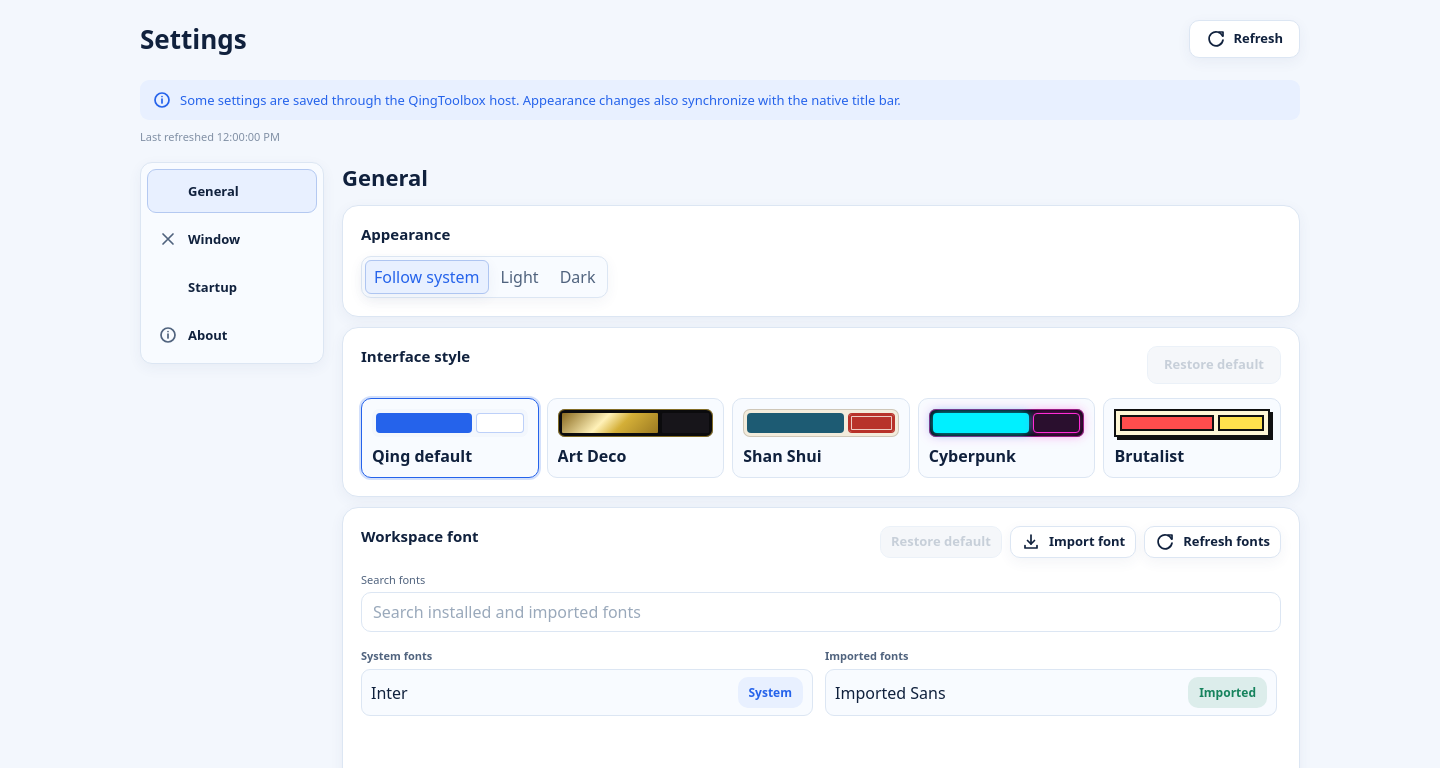
Test case: SettingsPage information architecture › does not optimistically change failed update-check settings and disables them when disconnected
The width and height of the screenshot is (1440, 768).
Click the button "Startup" at {"x": 232, "y": 287}, box [147,265,317,309]
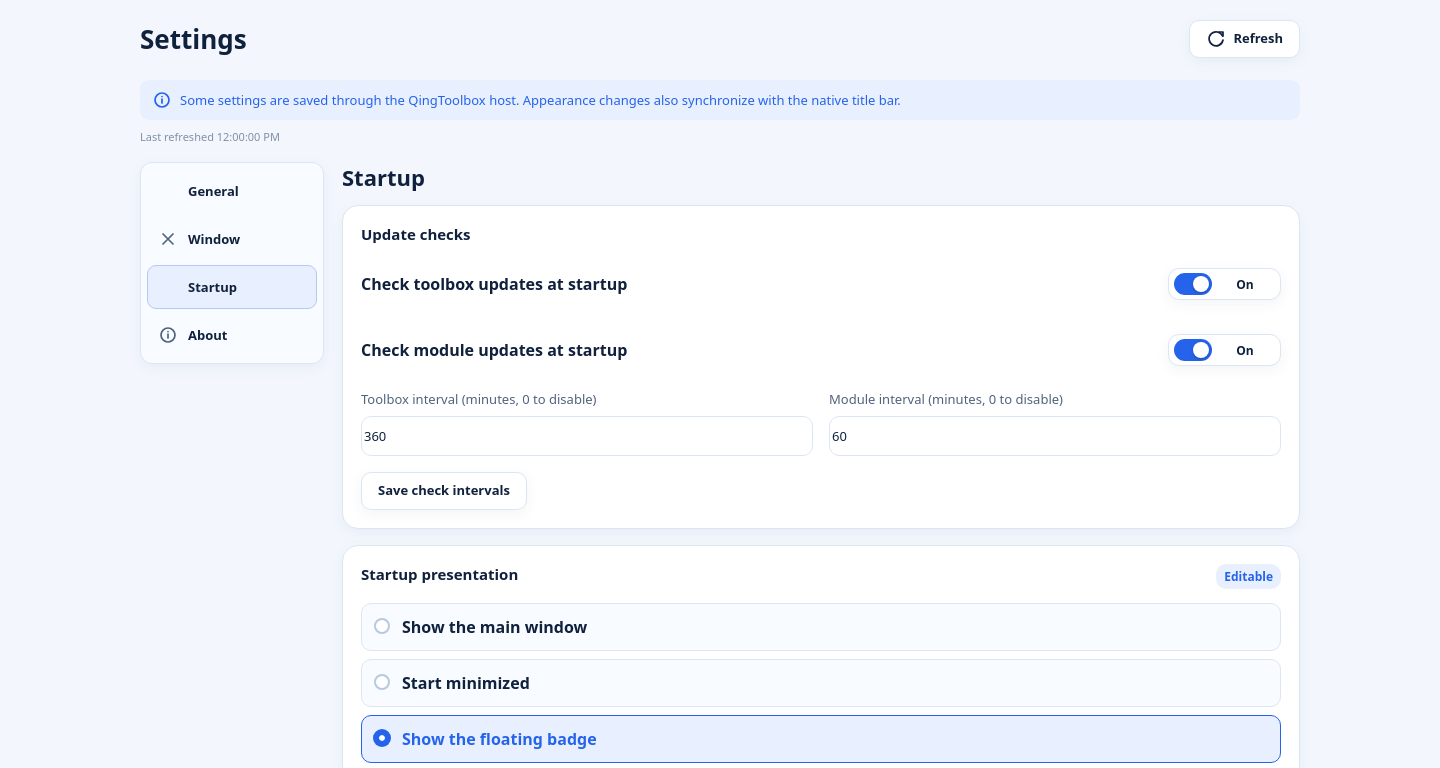
Click the switch with class "check-module-updates" at {"x": 1224, "y": 350}, box [1168,334,1281,366]
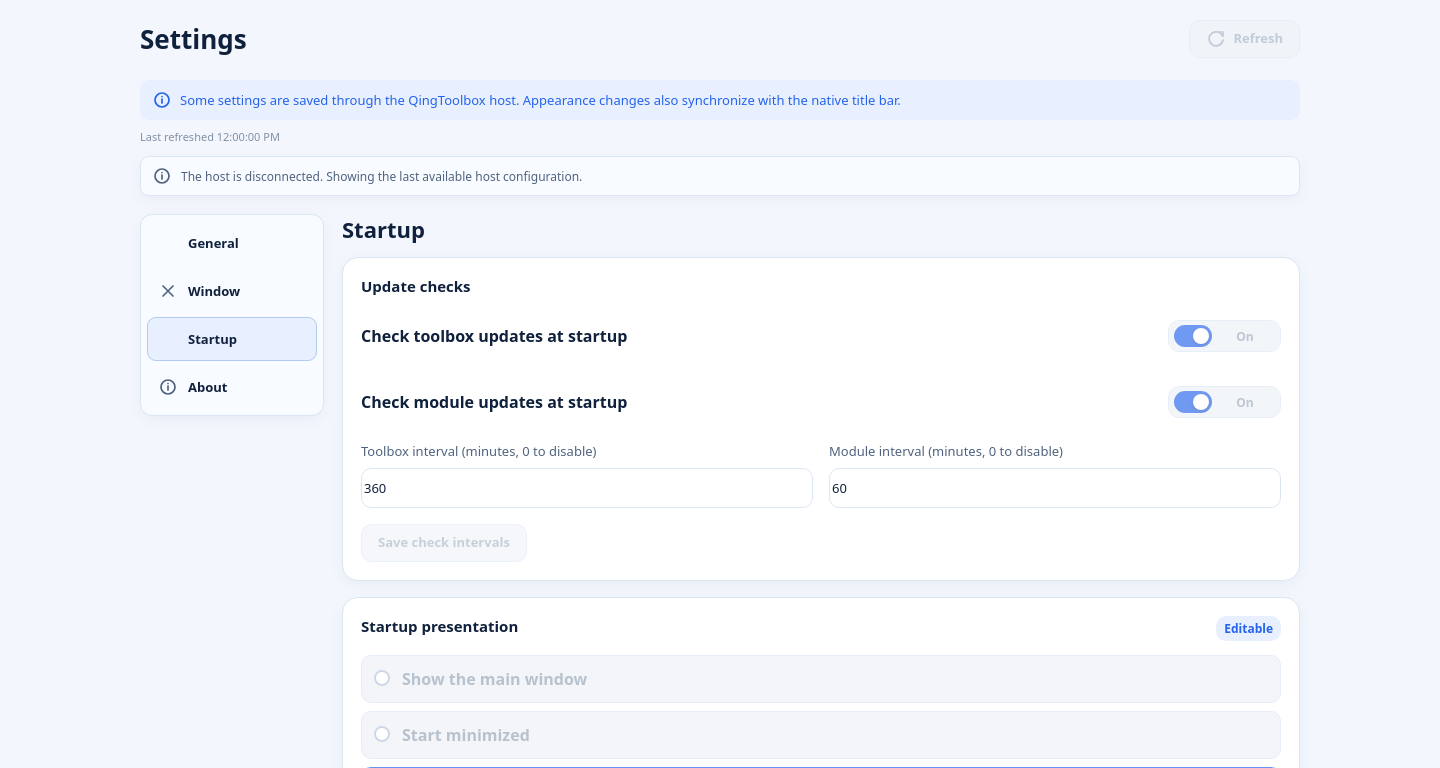
Result: the switch with class "check-module-updates" is disabled at [1168,386,1281,418]
Result: the button with class "save-update-intervals" is disabled at [361,524,527,562]
